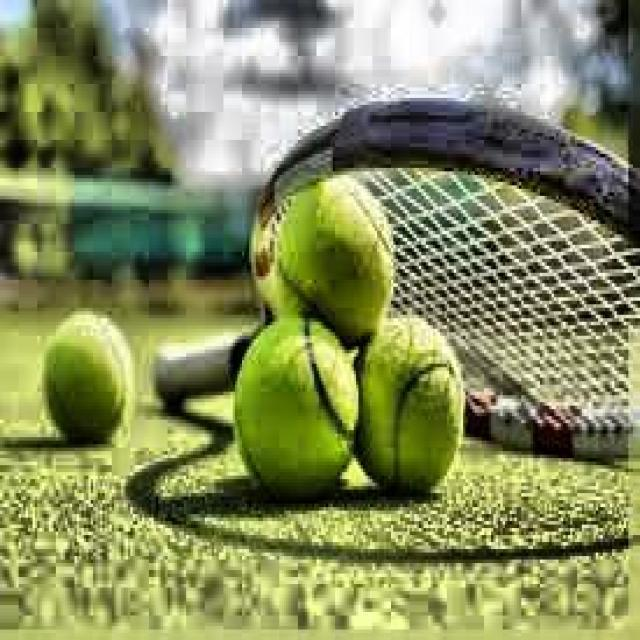tennis-ball: (357, 318, 469, 507), (269, 187, 401, 341), (235, 325, 353, 493), (42, 303, 133, 450)
